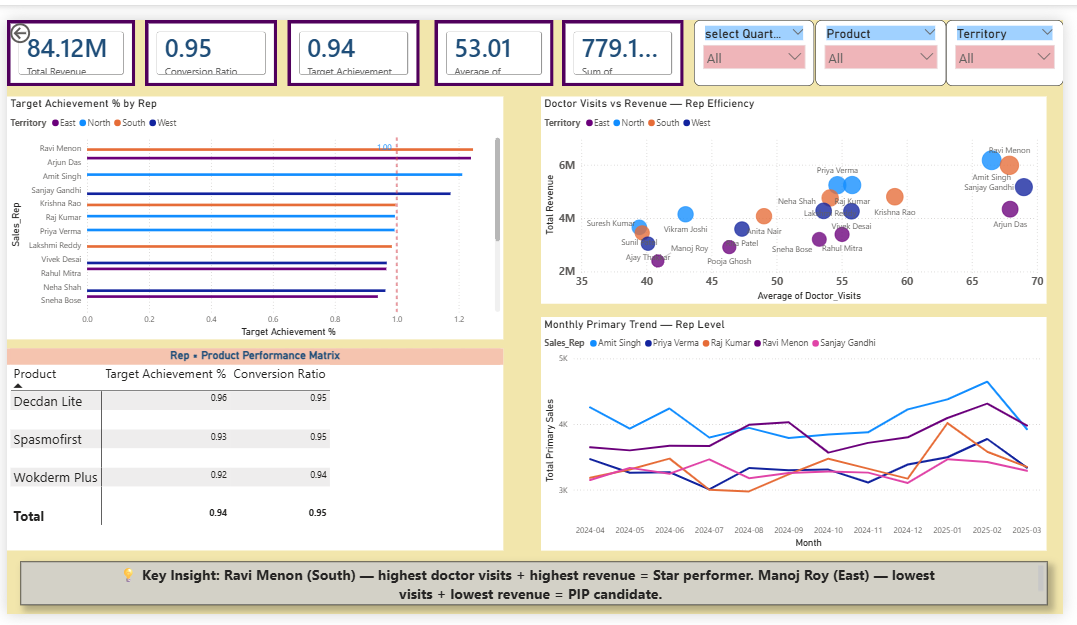

What the dashboard file says about the page in this screenshot:
{"tool":"powerbi","page":{"name":"Rep Performance","canvas":[1600,900],"ordinal":2},"visuals":[{"type":"cardVisual","fields":{"Data":["pharma_sales.Conversion Ratio"]},"box":[208,0,200,100],"z":0},{"type":"cardVisual","fields":{"Data":["pharma_sales.Target Achievement %"]},"box":[426,0,200,100],"z":1000},{"type":"cardVisual","fields":{"Data":["pharma_sales.Total Revenue"]},"box":[0,0,194,100],"z":2000},{"type":"cardVisual","fields":{"Data":["Avg(pharma_sales.Doctor_Visits)"]},"box":[648,0,180,100],"z":3000},{"type":"cardVisual","fields":{"Data":["Sum(pharma_sales.Bonus_Expense)"]},"box":[842,0,184,100],"z":4000},{"type":"slicer","fields":{"Values":["pharma_sales.Quarter"]},"box":[1042,0,182,100],"z":5000},{"type":"slicer","fields":{"Values":["pharma_sales.Product"]},"box":[1224,0,198,100],"z":6000},{"type":"slicer","fields":{"Values":["pharma_sales.Territory"]},"box":[1422,0,178,100],"z":7000},{"type":"clusteredBarChart","title":"Target Achievement % by Rep","fields":{"Category":["pharma_sales.Sales_Rep"],"Y":["pharma_sales.Target Achievement %"],"Series":["pharma_sales.Territory"]},"box":[0,116,752,368],"z":8000},{"type":"scatterChart","title":"Doctor Visits vs Revenue — Rep Efficiency","fields":{"X":["Avg(pharma_sales.Doctor_Visits)"],"Y":["pharma_sales.Total Revenue"],"Series":["pharma_sales.Territory"],"Size":["pharma_sales.Total Primary Sales"],"Category":["pharma_sales.Sales_Rep"]},"box":[810,116,766,314],"z":9000},{"type":"pivotTable","title":"Rep × Product Performance Matrix","fields":{"Rows":["pharma_sales.Product"],"Values":["pharma_sales.Target Achievement %","pharma_sales.Conversion Ratio"]},"box":[0,498,752,306],"z":10000},{"type":"actionButton","box":[0,0,100,40],"z":11000},{"type":"lineChart","title":"Monthly Primary Trend — Rep Level","fields":{"Category":["pharma_sales.Month"],"Y":["pharma_sales.Total Primary Sales"],"Series":["pharma_sales.Sales_Rep"]},"box":[810,450,766,354],"z":12000},{"type":"textbox","box":[20,820,1556,66],"z":13000}]}

Visuals, with their boxes on the page's 1600x900 design canvas (x1, y1, x2, y2). These are canvas units, not pixel positions in the 1077x625 screenshot, which may show the page scaled, cropped or inside an application window:
cardVisual - pharma_sales.Conversion Ratio: (x1=208, y1=0, x2=408, y2=100)
cardVisual - pharma_sales.Target Achievement %: (x1=426, y1=0, x2=626, y2=100)
cardVisual - pharma_sales.Total Revenue: (x1=0, y1=0, x2=194, y2=100)
cardVisual - Avg(pharma_sales.Doctor_Visits): (x1=648, y1=0, x2=828, y2=100)
cardVisual - Sum(pharma_sales.Bonus_Expense): (x1=842, y1=0, x2=1026, y2=100)
slicer - pharma_sales.Quarter: (x1=1042, y1=0, x2=1224, y2=100)
slicer - pharma_sales.Product: (x1=1224, y1=0, x2=1422, y2=100)
slicer - pharma_sales.Territory: (x1=1422, y1=0, x2=1600, y2=100)
"Target Achievement % by Rep" clusteredBarChart: (x1=0, y1=116, x2=752, y2=484)
"Doctor Visits vs Revenue — Rep Efficiency" scatterChart: (x1=810, y1=116, x2=1576, y2=430)
"Rep × Product Performance Matrix" pivotTable: (x1=0, y1=498, x2=752, y2=804)
actionButton: (x1=0, y1=0, x2=100, y2=40)
"Monthly Primary Trend — Rep Level" lineChart: (x1=810, y1=450, x2=1576, y2=804)
textbox: (x1=20, y1=820, x2=1576, y2=886)
